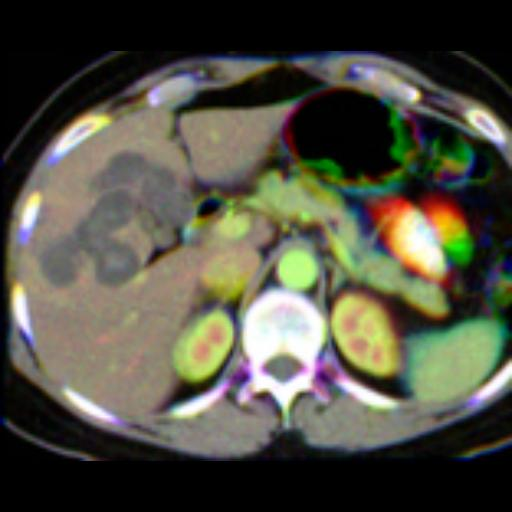Cyst: (39, 150, 194, 289)
